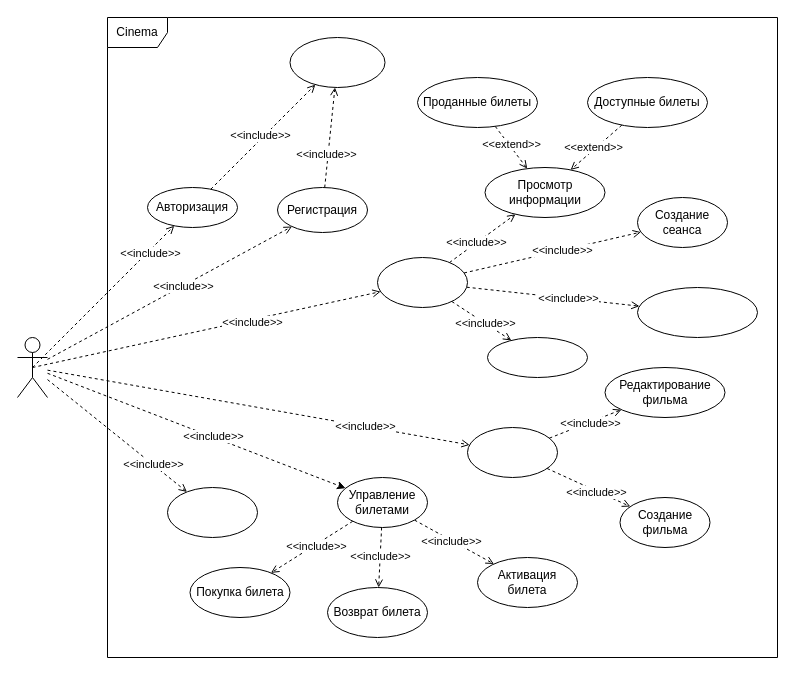
The diagram is 795 pixels wide and 675 high, and some of its shapes have lost their labels. Here are the shapes that lost their labels. From the top down, the centre of each, then its label:
the point at 337,62: Ввод логина и пароля
the point at 422,282: Управление сеансами
the point at 697,312: Редактирование сеанса
the point at 32,367: User
the point at 537,357: Просмотр сеансов
the point at 512,452: Управление фильмами
the point at 212,512: Завершение работы
